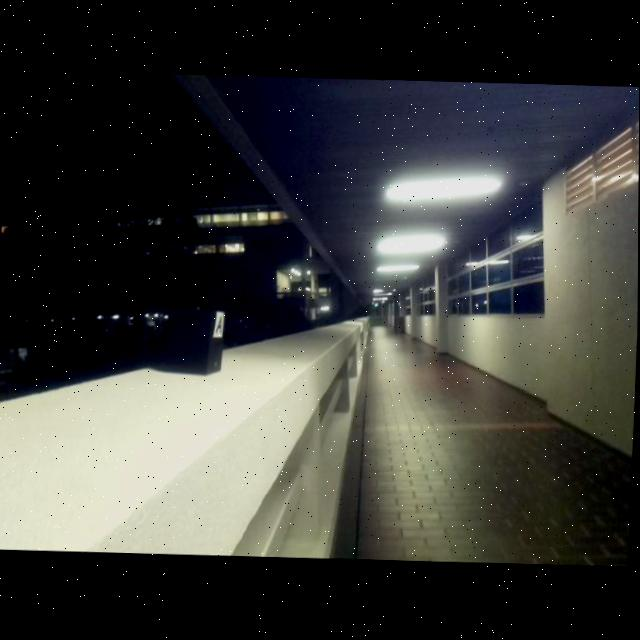A: (214, 314, 224, 335)
